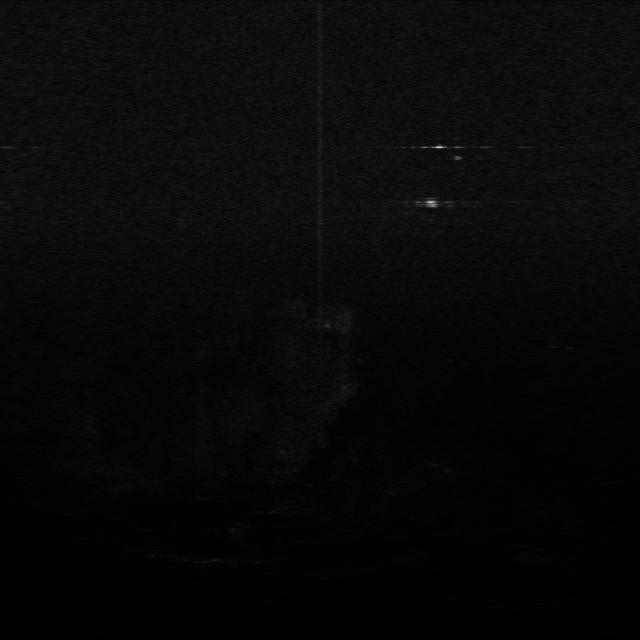rov: (418, 196, 447, 212)
